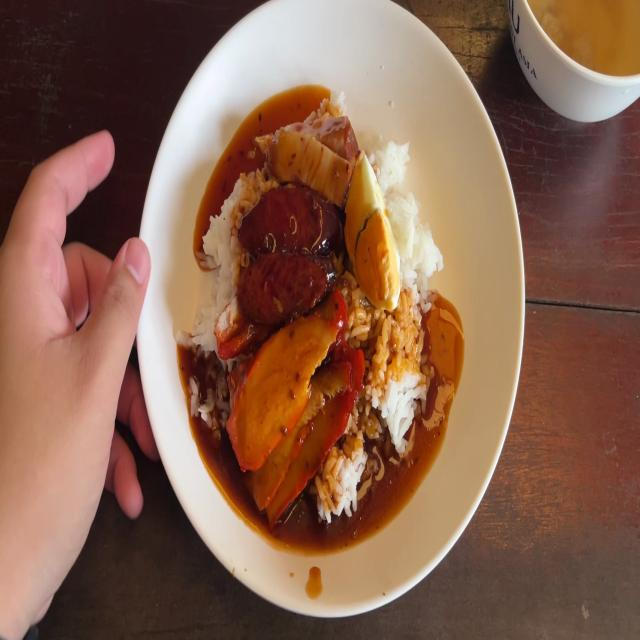red_pork_and_crispy_pork: (344, 161, 394, 311)
stir_fried_basil: (236, 189, 334, 306), (240, 194, 332, 255), (240, 262, 334, 310)
